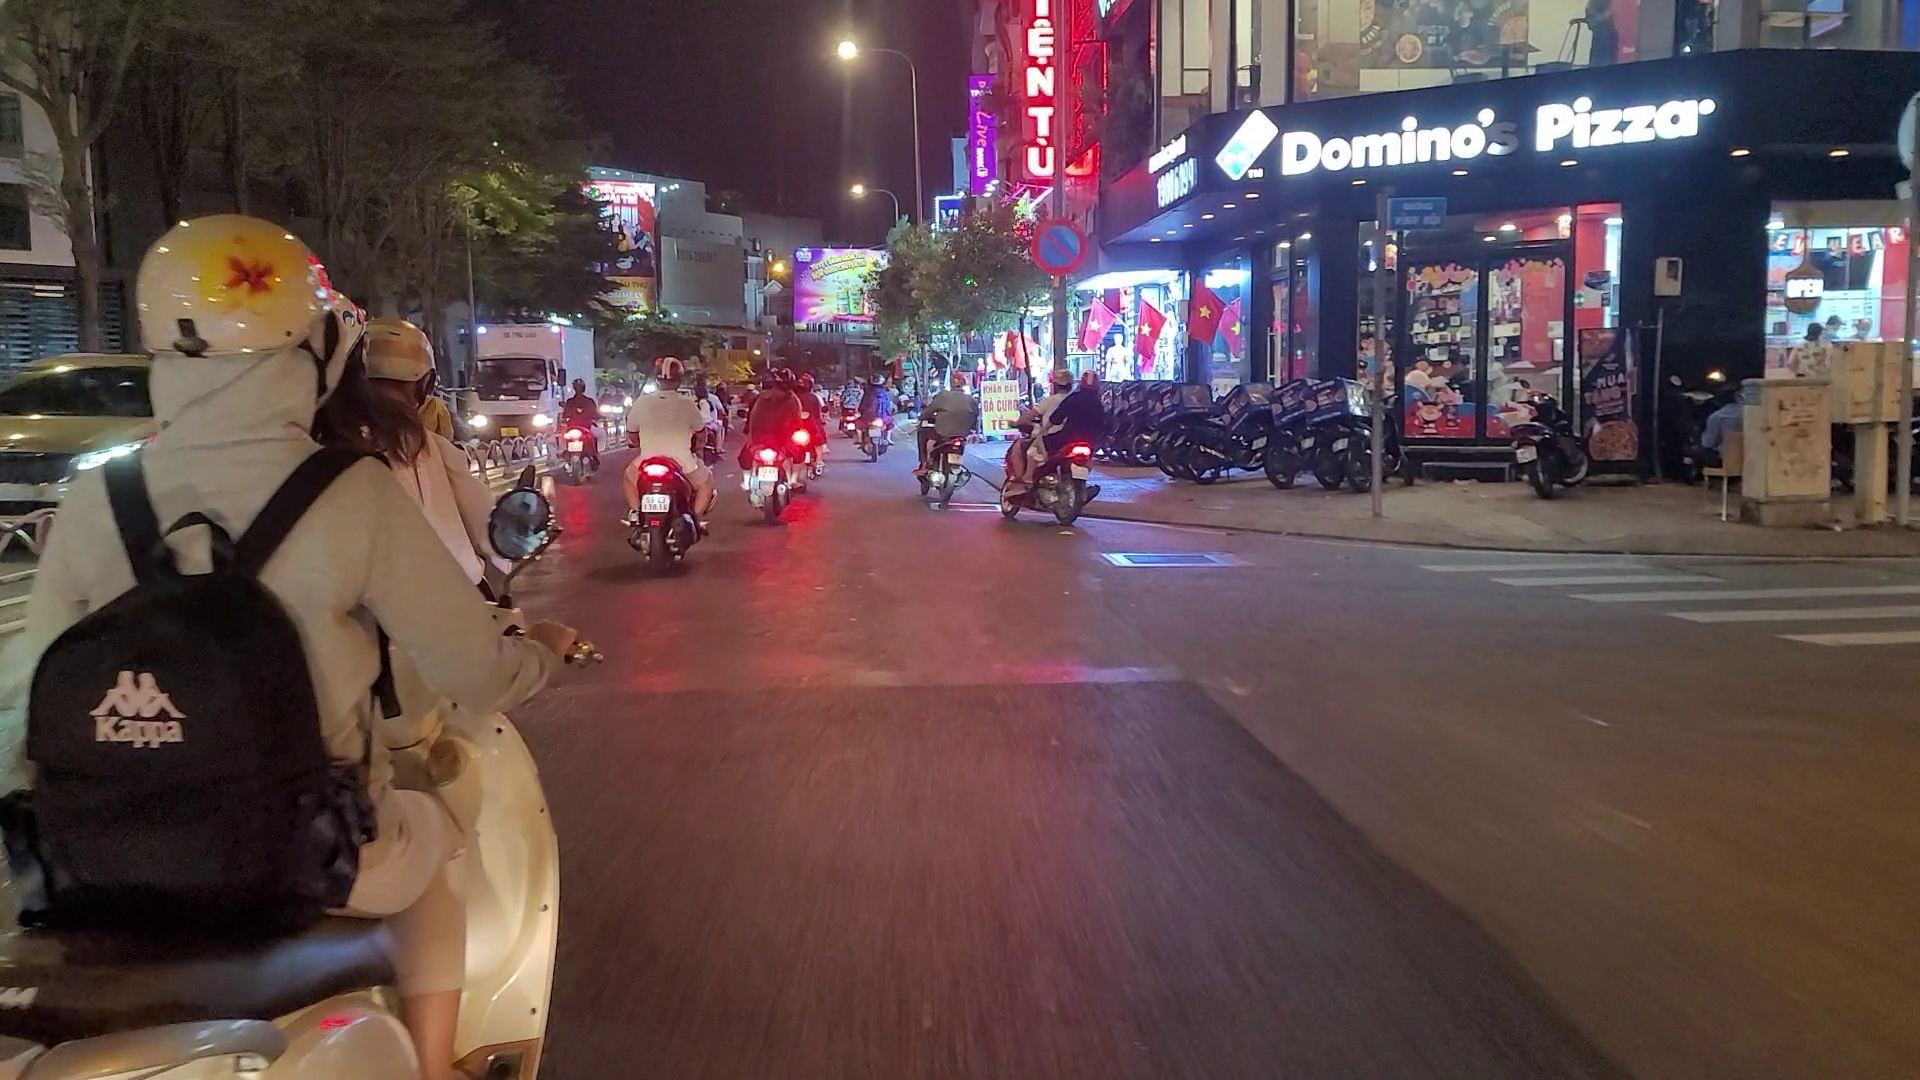Cam do xe: (1030, 212, 1088, 280)
